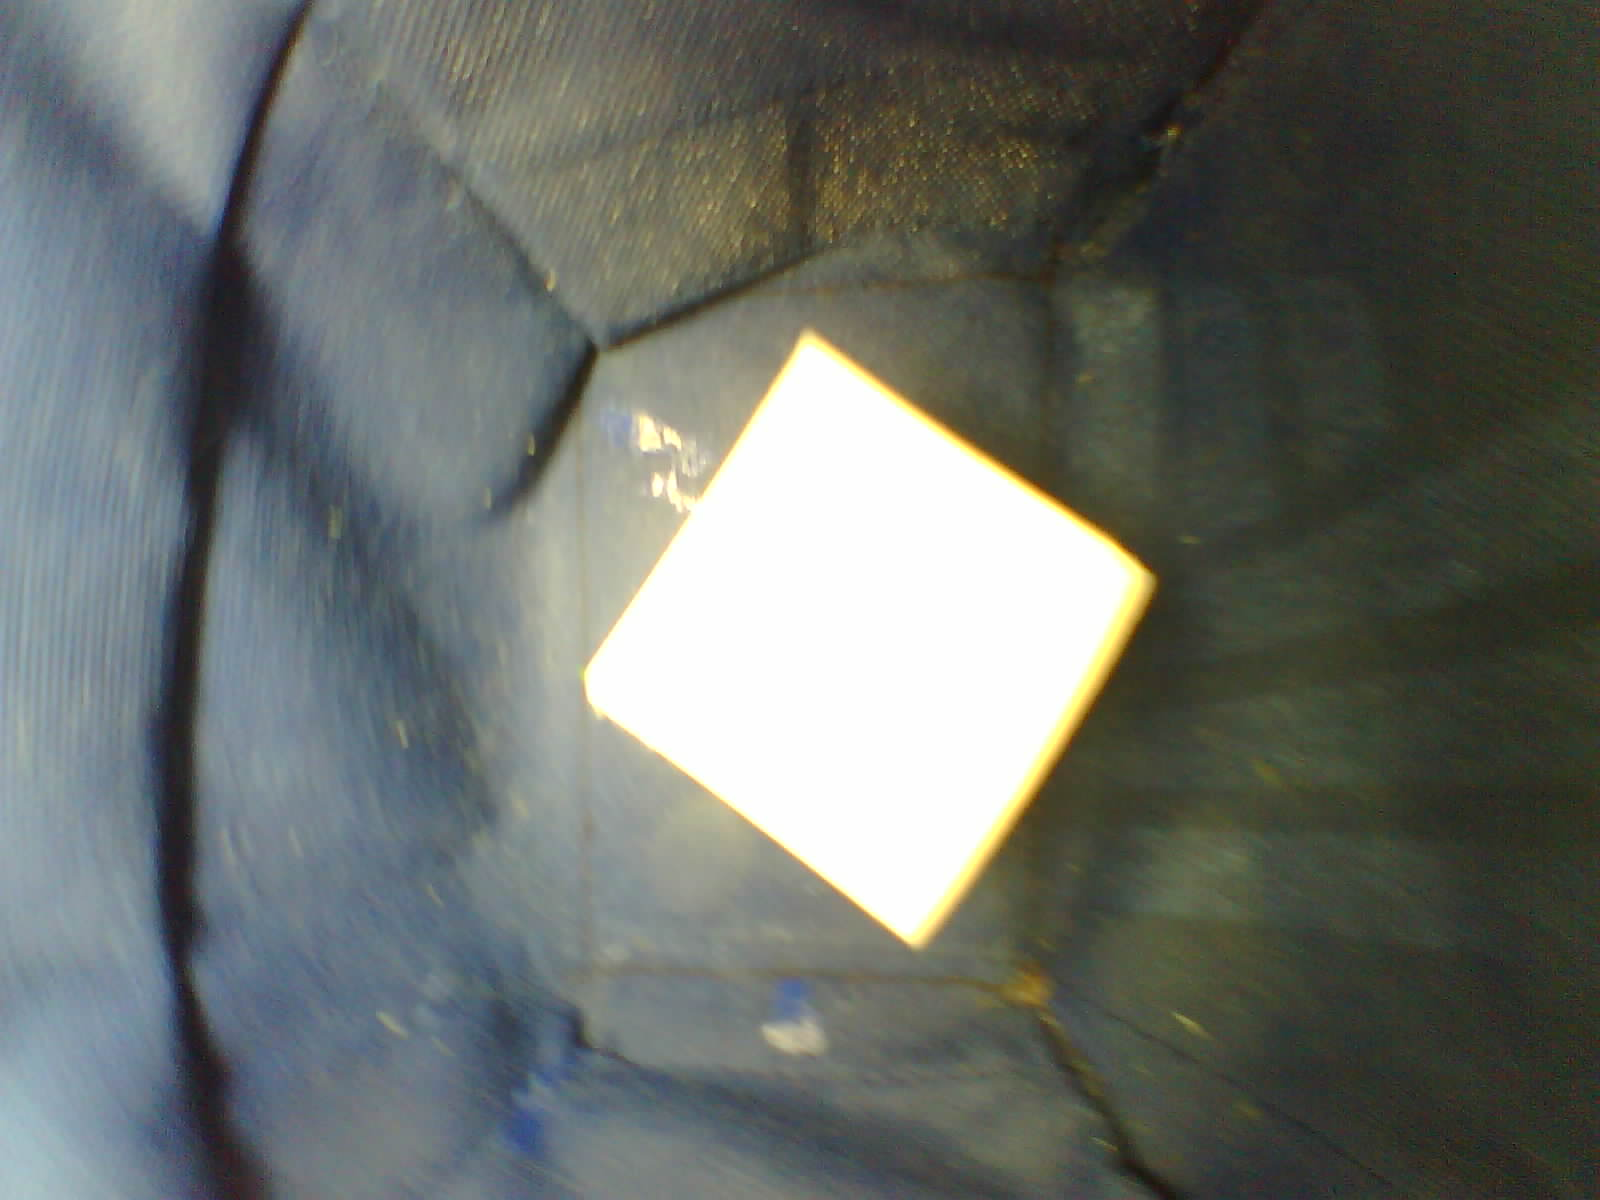cube-hard: (567, 311, 1179, 971)
